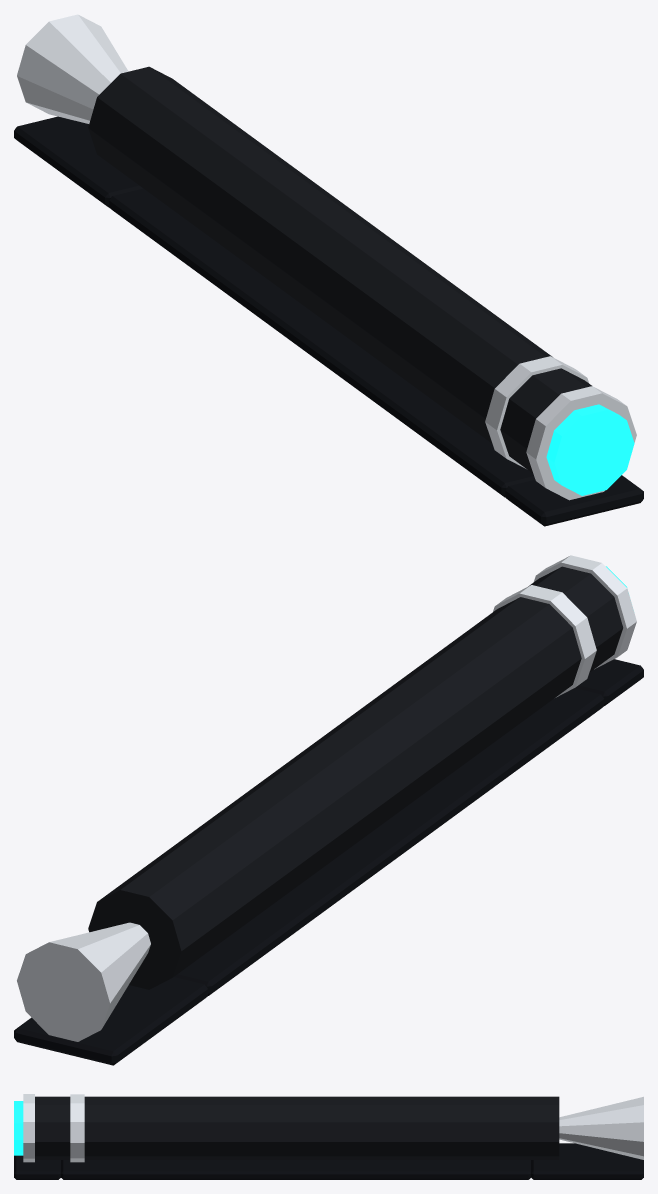
Rendered from rocket_round.glb.
3 renders of one model, top to bottom at view 1: azimuth 30°, elevation 25°; view 2: azimuth 150°, elevation 25°; view 3: azimuth 270°, elevation 25°, orthographic. The views are drawn at different scales.
Parts seen in each view (by area): view 1: rocket_round_MID_deco_body, rocket_round_MID_deco_trim, rocket_round_TAIL_chrome, rocket_round_HEAD_deco_neon, rocket_round_TAIL_deco_trim, rocket_round_HEAD_deco_trim, rocket_round_HEAD_chrome, rocket_round_TAIL_deco_body, rocket_round_HEAD_deco_body, rocket_round_MID_chrome; view 2: rocket_round_MID_deco_body, rocket_round_MID_deco_trim, rocket_round_TAIL_chrome, rocket_round_TAIL_deco_body, rocket_round_TAIL_deco_trim, rocket_round_HEAD_deco_body, rocket_round_MID_chrome, rocket_round_HEAD_chrome, rocket_round_HEAD_deco_trim; view 3: rocket_round_MID_deco_body, rocket_round_MID_deco_trim, rocket_round_TAIL_chrome, rocket_round_TAIL_deco_trim, rocket_round_TAIL_deco_body, rocket_round_HEAD_deco_body, rocket_round_MID_chrome, rocket_round_HEAD_deco_trim, rocket_round_HEAD_chrome, rocket_round_HEAD_deco_neon.
Boxes of the visible parts, x1=… form: rocket_round_MID_deco_body: x1=112, y1=84, x2=591, y2=461; rocket_round_MID_deco_trim: x1=109, y1=188, x2=535, y2=497; rocket_round_TAIL_chrome: x1=17, y1=14, x2=128, y2=123; rocket_round_HEAD_deco_neon: x1=546, y1=404, x2=634, y2=495; rocket_round_TAIL_deco_trim: x1=14, y1=116, x2=142, y2=207; rocket_round_HEAD_deco_trim: x1=505, y1=475, x2=643, y2=526; rocket_round_HEAD_chrome: x1=526, y1=386, x2=636, y2=500; rocket_round_TAIL_deco_body: x1=88, y1=66, x2=194, y2=171; rocket_round_HEAD_deco_body: x1=508, y1=374, x2=591, y2=473; rocket_round_MID_chrome: x1=485, y1=356, x2=589, y2=468; rocket_round_MID_deco_body: x1=122, y1=582, x2=601, y2=959; rocket_round_MID_deco_trim: x1=174, y1=688, x2=604, y2=995; rocket_round_TAIL_chrome: x1=17, y1=922, x2=150, y2=1041; rocket_round_TAIL_deco_body: x1=88, y1=872, x2=204, y2=989; rocket_round_TAIL_deco_trim: x1=14, y1=977, x2=207, y2=1065; rocket_round_HEAD_deco_body: x1=528, y1=566, x2=623, y2=669; rocket_round_MID_chrome: x1=493, y1=585, x2=596, y2=697; rocket_round_HEAD_chrome: x1=534, y1=555, x2=636, y2=669; rocket_round_HEAD_deco_trim: x1=575, y1=659, x2=643, y2=705; rocket_round_MID_deco_body: x1=61, y1=1096, x2=530, y2=1159; rocket_round_MID_deco_trim: x1=61, y1=1160, x2=530, y2=1179; rocket_round_TAIL_chrome: x1=559, y1=1096, x2=643, y2=1159; rocket_round_TAIL_deco_trim: x1=531, y1=1143, x2=643, y2=1179; rocket_round_TAIL_deco_body: x1=531, y1=1096, x2=559, y2=1159; rocket_round_HEAD_deco_body: x1=35, y1=1096, x2=60, y2=1159; rocket_round_MID_chrome: x1=70, y1=1094, x2=84, y2=1162; rocket_round_HEAD_deco_trim: x1=14, y1=1155, x2=60, y2=1179; rocket_round_HEAD_chrome: x1=23, y1=1094, x2=34, y2=1162; rocket_round_HEAD_deco_neon: x1=14, y1=1101, x2=23, y2=1155.
Bounding box in the file's own units: 0.15 × 0.1578 × 1.34.
